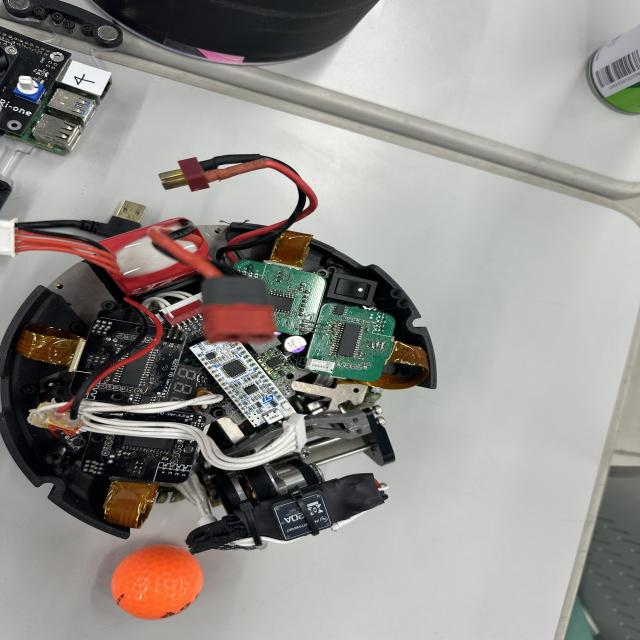ball: (108, 543, 206, 622)
